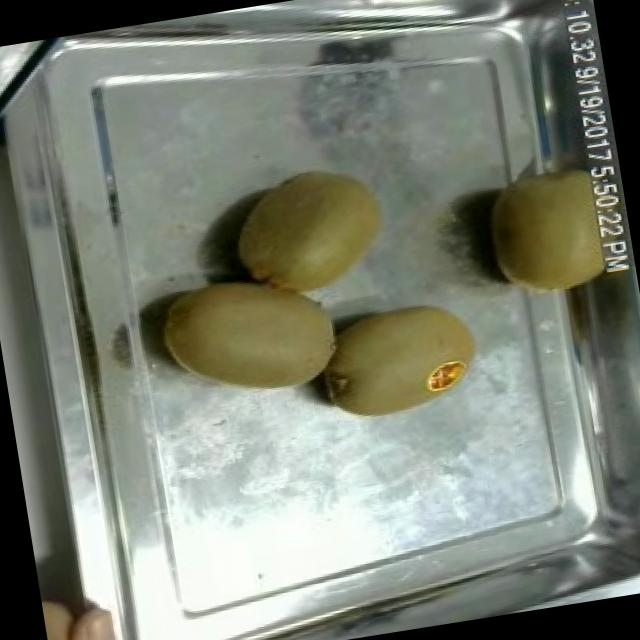Fruit: (146, 253, 353, 419), (296, 287, 494, 438), (218, 154, 402, 312), (470, 152, 634, 309), (36, 560, 140, 640)
